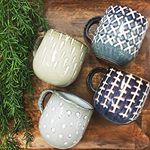cups: (83, 3, 149, 66), (34, 88, 95, 150), (85, 64, 146, 126), (28, 27, 89, 89)
